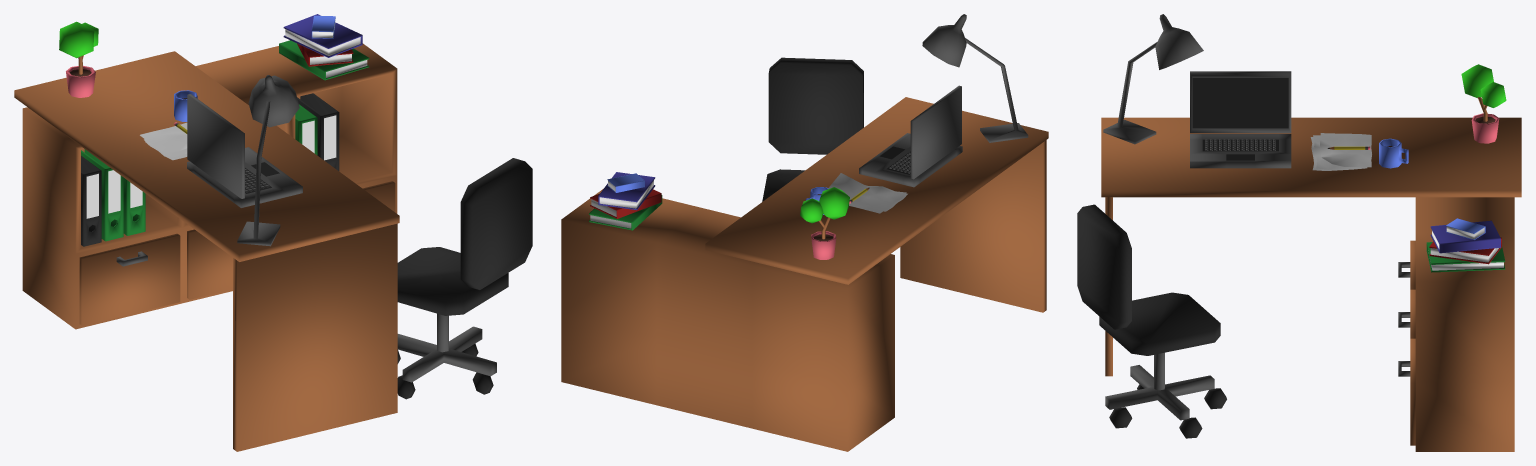
Rendered from desk.gltf.
3 views of the same model, side by side, from view 1: azimuth 30°, elevation 25°; view 2: azimuth 150°, elevation 25°; view 3: azimuth 270°, elevation 25° (orthographic). The views are drawn at different scales.
Visible parts, largest first — view 1: Node17, Node1, Node16, Node15, Node12, Node13, Node10, Node3, Node5, Node8, Node4, Node2; view 2: Node17, Node1, Node16, Node12, Node10, Node8, Node3, Node5, Node4, Node2; view 3: Node17, Node1, Node16, Node18, Node12, Node10, Node8, Node3, Node5, Node4, Node11, Node2.
Part boxes in pixels (bbox=[...]): Node17: bbox=[14, 43, 399, 451]; Node1: bbox=[397, 158, 532, 399]; Node16: bbox=[187, 94, 302, 207]; Node15: bbox=[81, 149, 145, 246]; Node12: bbox=[237, 75, 299, 246]; Node13: bbox=[295, 93, 339, 170]; Node10: bbox=[59, 21, 98, 97]; Node3: bbox=[283, 14, 362, 57]; Node5: bbox=[279, 40, 369, 80]; Node8: bbox=[140, 122, 187, 153]; Node4: bbox=[297, 43, 353, 66]; Node2: bbox=[311, 15, 335, 38]; Node17: bbox=[561, 97, 1048, 451]; Node1: bbox=[762, 57, 863, 201]; Node16: bbox=[859, 85, 962, 187]; Node12: bbox=[922, 14, 1028, 142]; Node10: bbox=[800, 187, 849, 259]; Node8: bbox=[828, 173, 904, 213]; Node3: bbox=[598, 172, 655, 210]; Node5: bbox=[589, 195, 662, 230]; Node4: bbox=[590, 189, 661, 218]; Node2: bbox=[607, 173, 644, 192]; Node17: bbox=[1101, 117, 1521, 451]; Node1: bbox=[1077, 204, 1226, 438]; Node16: bbox=[1190, 71, 1291, 168]; Node18: bbox=[1192, 78, 1288, 128]; Node12: bbox=[1103, 14, 1203, 144]; Node10: bbox=[1461, 64, 1506, 143]; Node8: bbox=[1320, 133, 1371, 167]; Node3: bbox=[1430, 220, 1500, 253]; Node5: bbox=[1426, 242, 1505, 272]; Node4: bbox=[1429, 237, 1501, 264]; Node11: bbox=[1379, 138, 1408, 168]; Node2: bbox=[1446, 218, 1485, 239].
Bounding box in the file's own units: 1.42 × 1.45 × 1.8.
